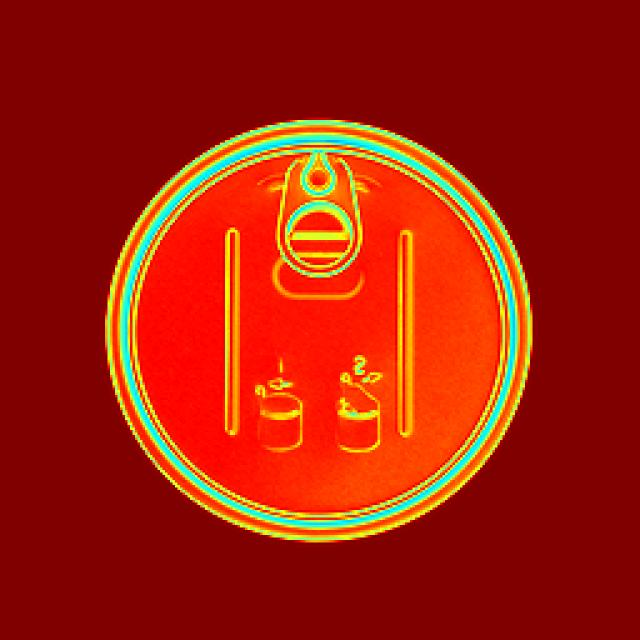Aluminium Food Cans: (99, 130, 530, 532)
